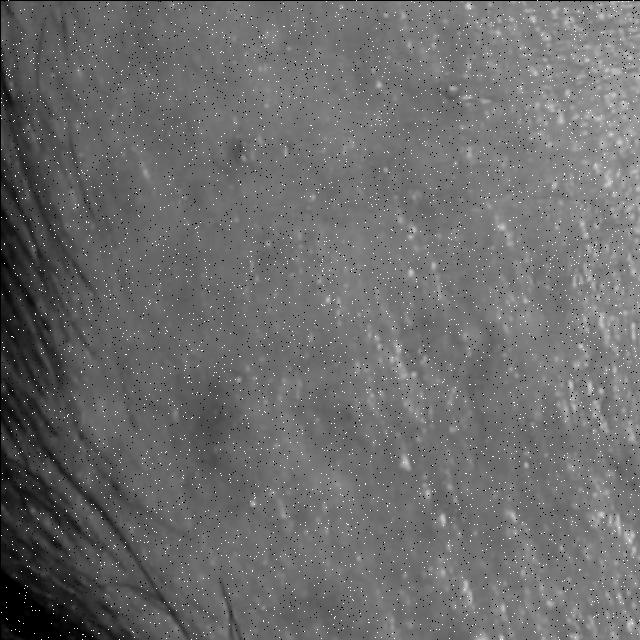nodules: (174, 370, 278, 500)
